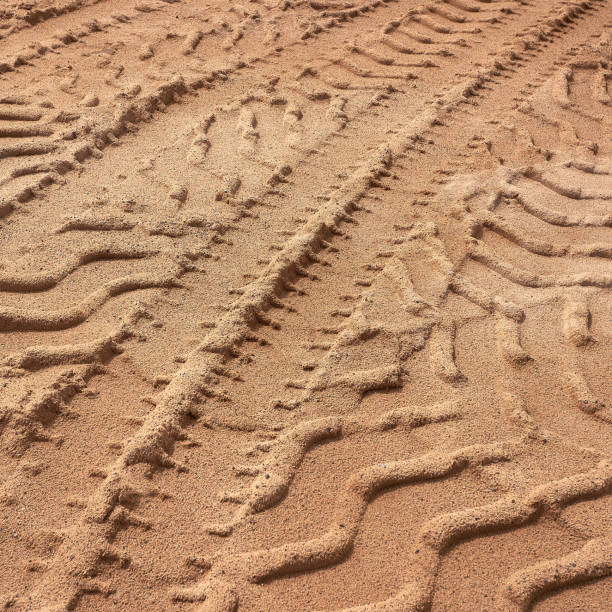vehicle_track: (0, 1, 609, 609)
